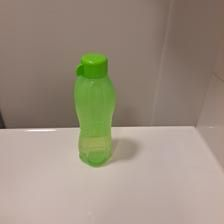bottle: (72, 50, 119, 167)
